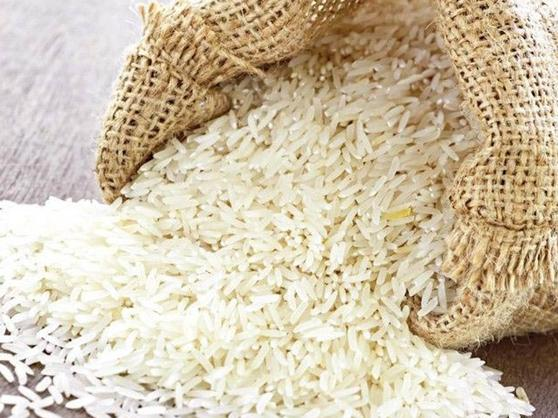rice: (5, 200, 424, 408)
